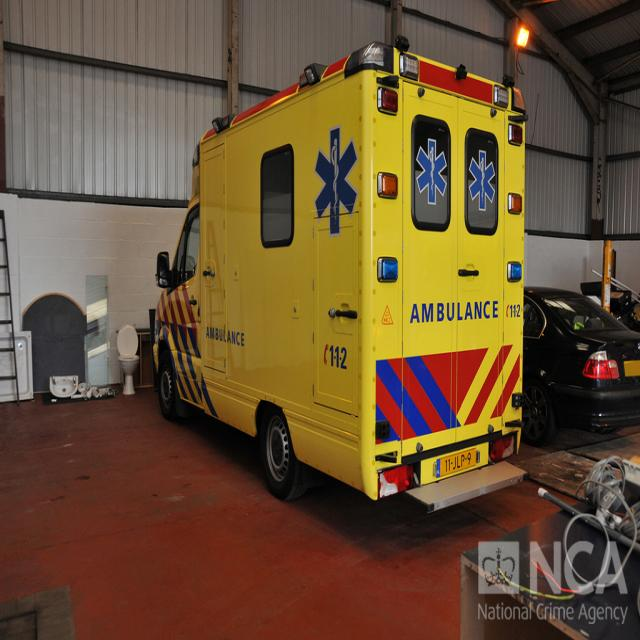Ambulance: (152, 33, 532, 520)
